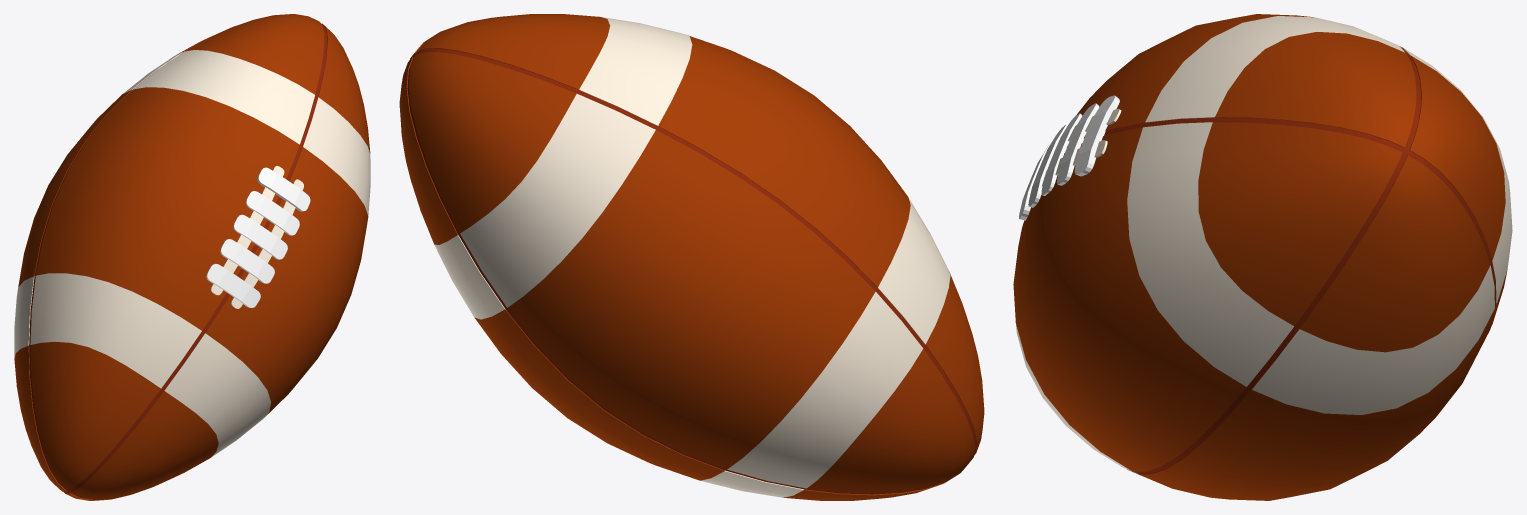
File: american_football.glb
The picture shows the model from 3 angles, left to right: view 1: azimuth 30°, elevation 25°; view 2: azimuth 150°, elevation 25°; view 3: azimuth 270°, elevation 25°; orthographic projection. The views are drawn at different scales.
Visible parts, largest first — view 1: Cube.812; view 2: Cube.812; view 3: Cube.812.
Boxes of the visible parts, x1,y1,x2,y2 form: Cube.812: (14,14,370,500); Cube.812: (399,14,984,500); Cube.812: (1013,14,1512,500).
Bounding box in the file's own units: 2.3 × 2.15 × 1.81.
1 material, 1 textured.
